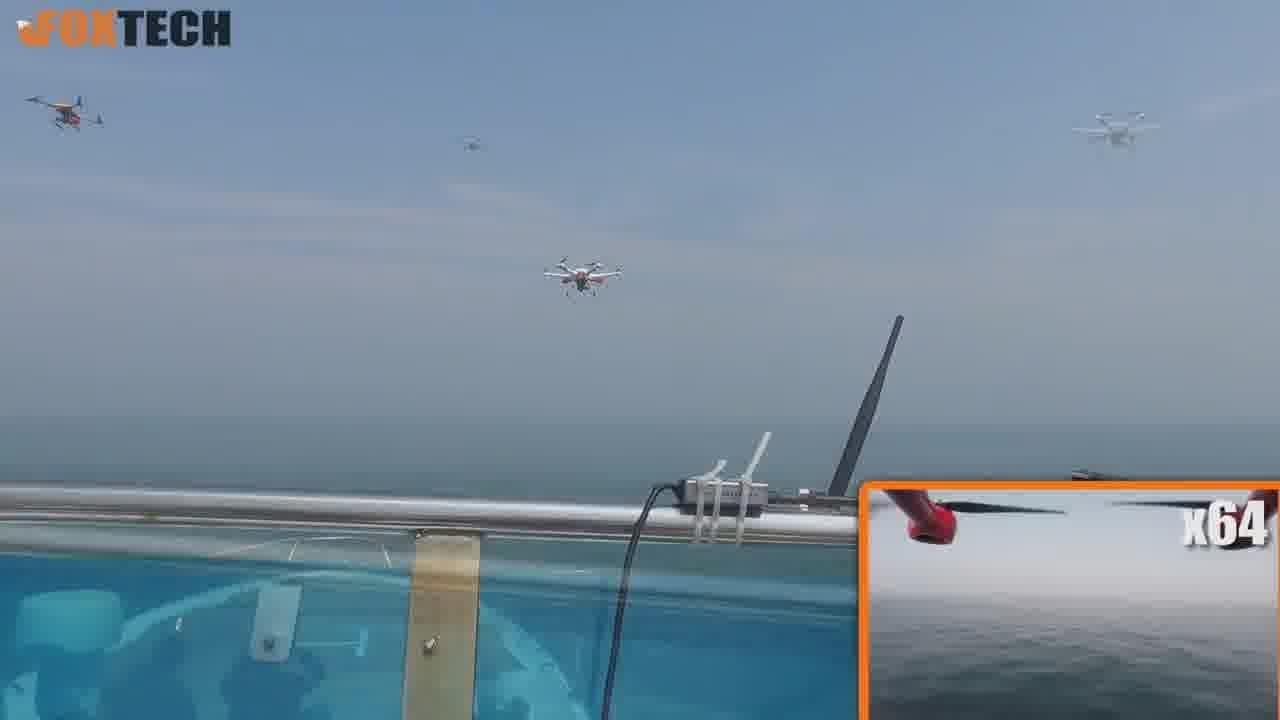drone: (23, 82, 104, 151), (1076, 98, 1163, 161), (537, 248, 625, 303), (455, 131, 491, 162)
